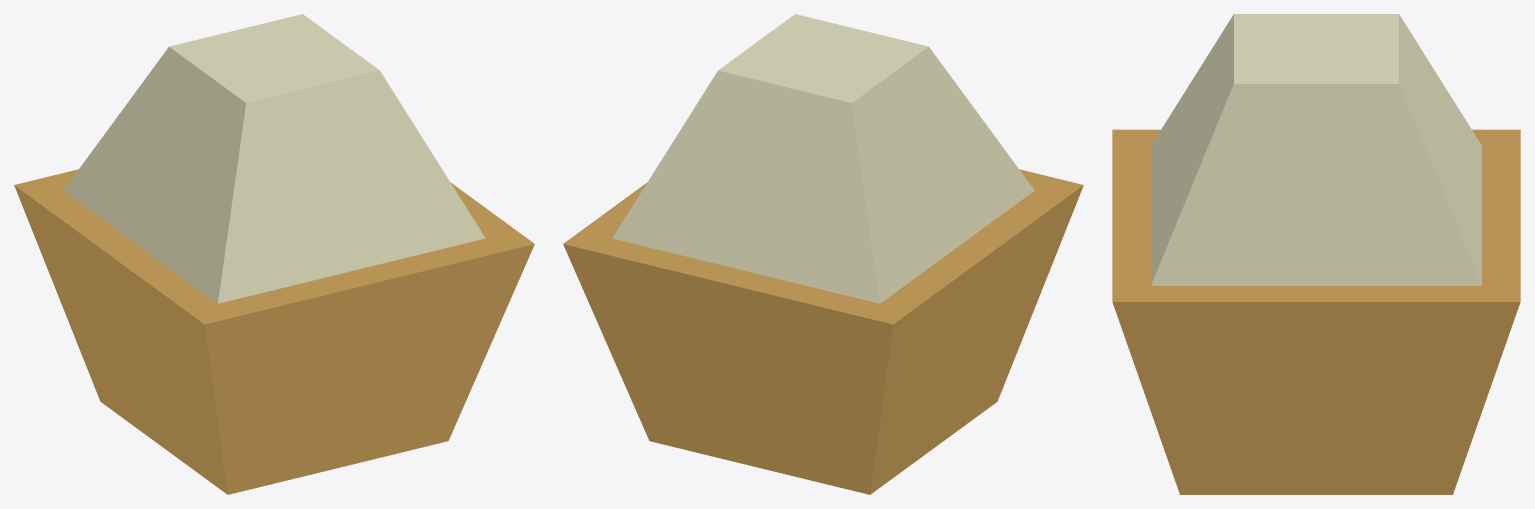
File: Cupcake1.glb
3 renders of one model, left to right at view 1: azimuth 30°, elevation 25°; view 2: azimuth 150°, elevation 25°; view 3: azimuth 270°, elevation 25°, orthographic. The views are drawn at different scales.
Visible parts, largest first — view 1: SI_Food_Bakery_Cupcake_01; view 2: SI_Food_Bakery_Cupcake_01; view 3: SI_Food_Bakery_Cupcake_01.
Boxes of the visible parts, left/top/right/bottom form: SI_Food_Bakery_Cupcake_01: left=14, top=14, right=534, bottom=494; SI_Food_Bakery_Cupcake_01: left=563, top=14, right=1083, bottom=494; SI_Food_Bakery_Cupcake_01: left=1112, top=14, right=1520, bottom=494.
Bounding box in the file's own units: 0.00215 × 0.00226 × 0.00215.
Materials: 1 (1 with a texture image).
